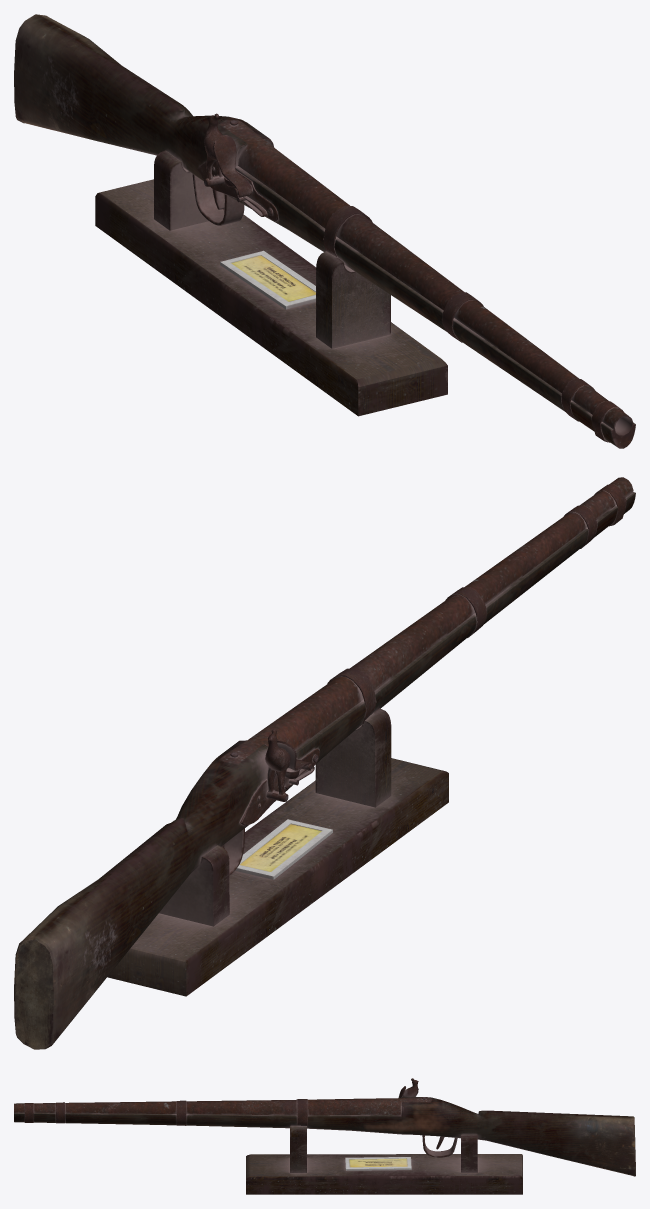
Rendered from sung.glb.
3 renders of one model, top to bottom at view 1: azimuth 30°, elevation 25°; view 2: azimuth 150°, elevation 25°; view 3: azimuth 270°, elevation 25°, orthographic. The views are drawn at different scales.
Visible parts, largest first — view 1: SungDieuThuong_01 - Default_0; view 2: SungDieuThuong_01 - Default_0; view 3: SungDieuThuong_01 - Default_0.
Part boxes in pixels (bbox=[...]): SungDieuThuong_01 - Default_0: bbox=[14, 14, 635, 448]; SungDieuThuong_01 - Default_0: bbox=[14, 477, 635, 1049]; SungDieuThuong_01 - Default_0: bbox=[14, 1078, 635, 1194].
Size of the model in its own units: 3.45 by 6.66 by 38.56.
Materials: 1 (1 with a texture image).
